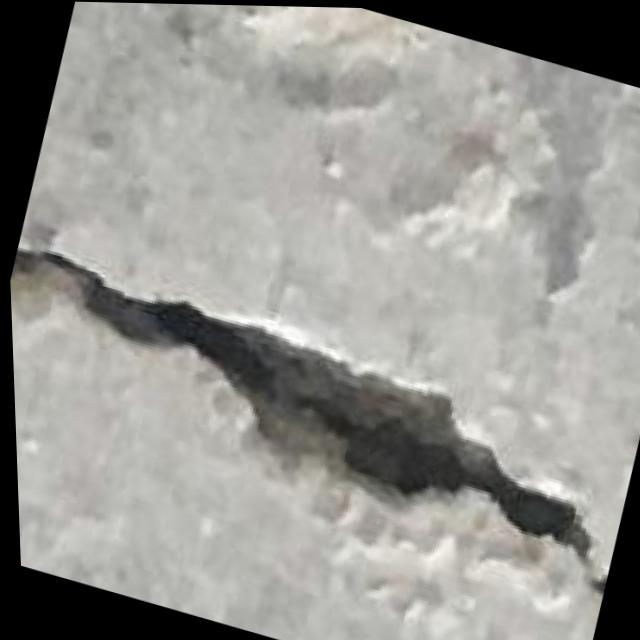Crack: (6, 206, 640, 597)
